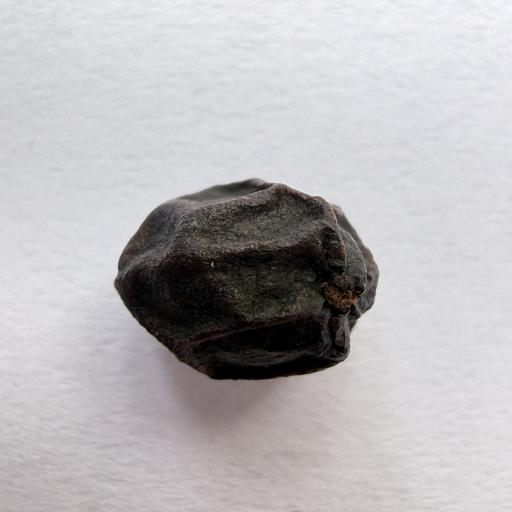Black_pepper: (70, 172, 442, 388)
